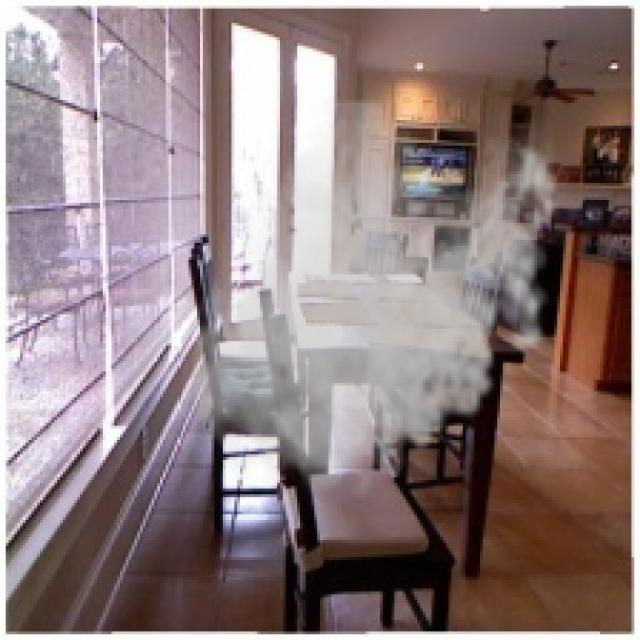Smoke: (183, 97, 572, 506)
